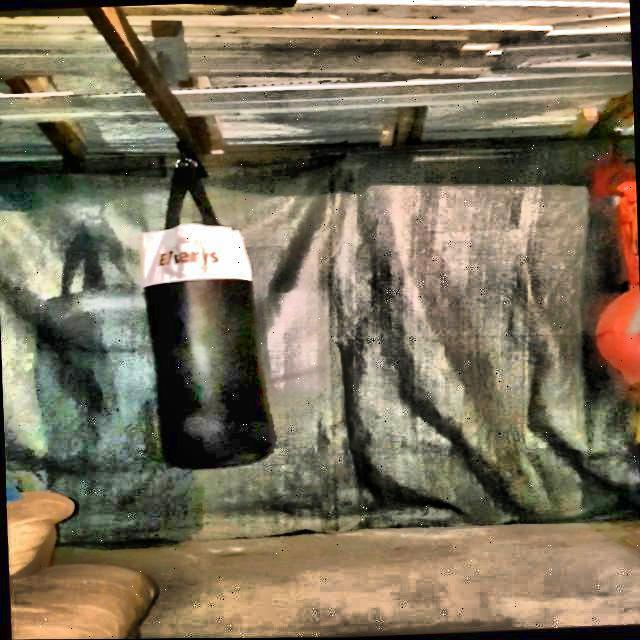boxing-bag: (130, 132, 270, 475)
